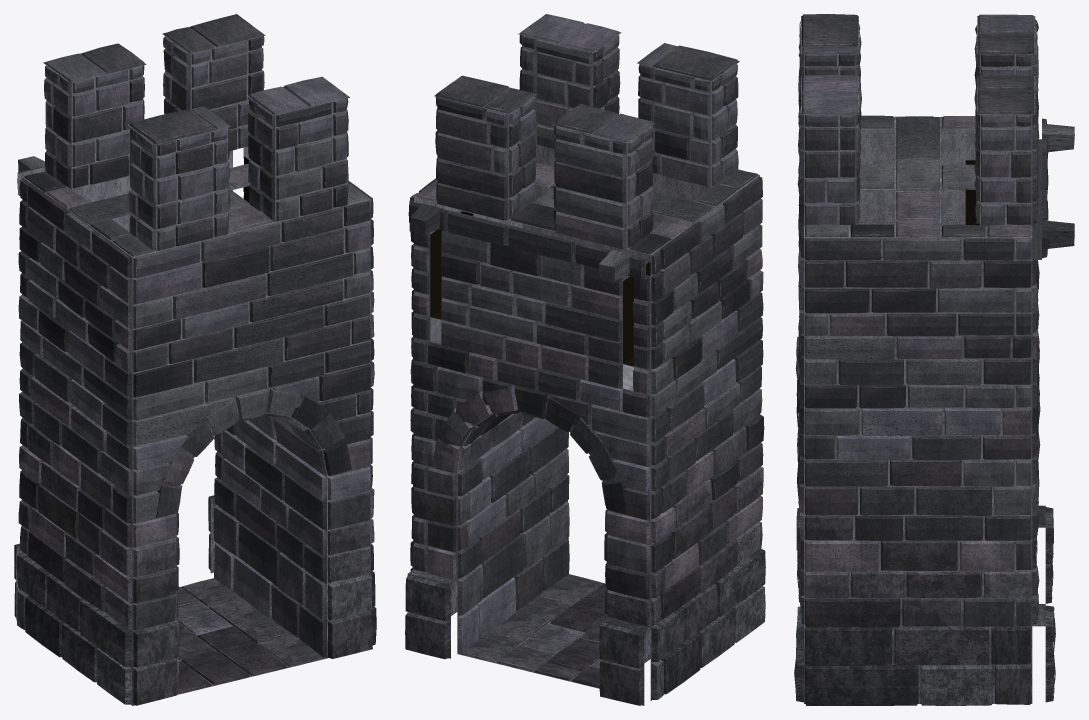
Rendered from fort_gatehouse.glb.
3 views of the same model, side by side, from view 1: azimuth 30°, elevation 25°; view 2: azimuth 150°, elevation 25°; view 3: azimuth 270°, elevation 25° (orthographic). The views are drawn at different scales.
Parts seen in each view (by area): view 1: Gatehouse; view 2: Gatehouse; view 3: Gatehouse.
Part boxes in pixels (box(x1,y1,x2,y2)): Gatehouse: box(14, 14, 376, 705); Gatehouse: box(405, 14, 765, 705); Gatehouse: box(794, 14, 1074, 705).
Bounding box in the file's own units: 3.21 × 6.74 × 2.95.
3 materials, 3 textured.
